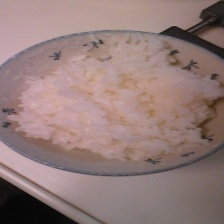rice: (7, 33, 224, 163)
